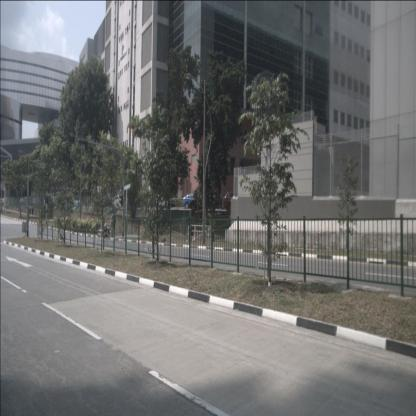human-pedestrian-adult: (112, 212, 117, 234), (31, 205, 34, 215), (29, 204, 31, 214)
vehicle-car: (222, 191, 247, 213), (182, 193, 206, 209), (110, 194, 126, 209)
